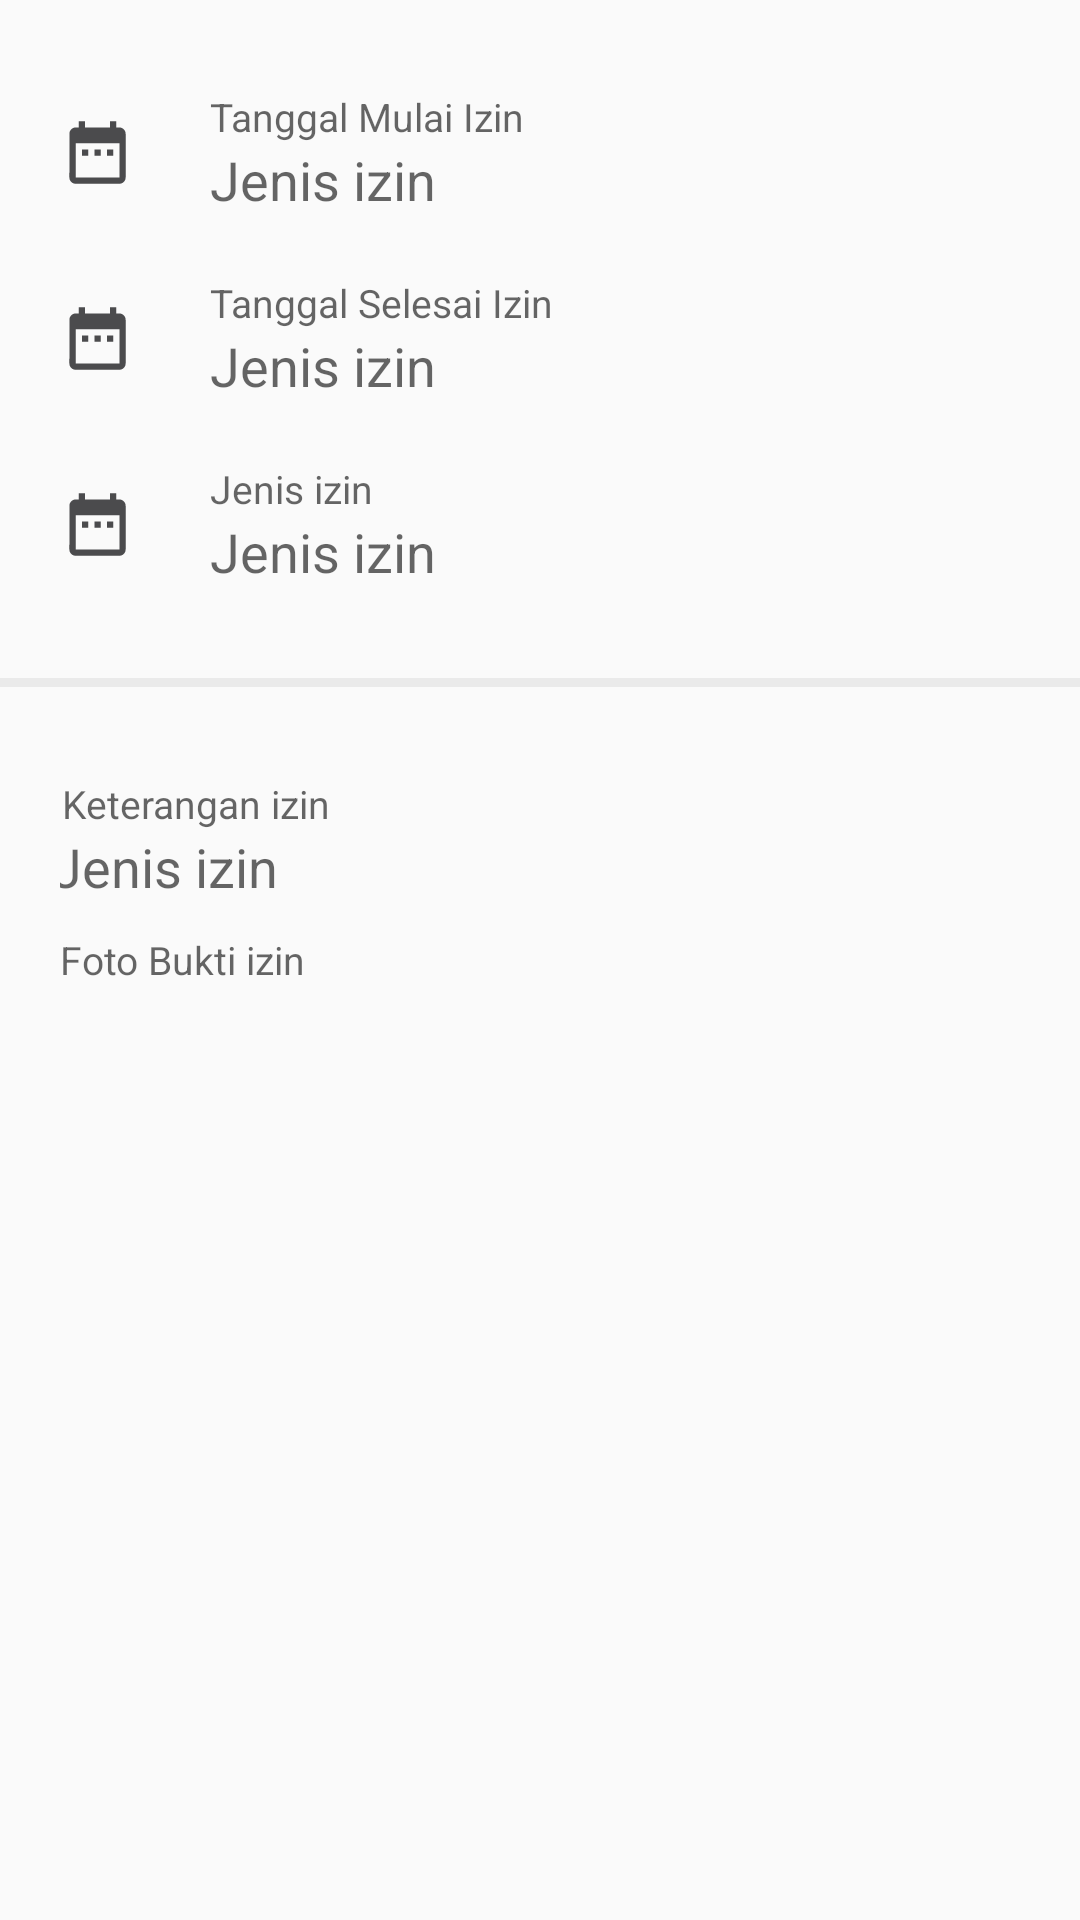

Where icons sit on this 1080x1920 app screen, as rect(x1, y1, x2, y2):
date: rect(69, 121, 126, 184), rect(69, 307, 126, 370), rect(69, 493, 126, 556)
